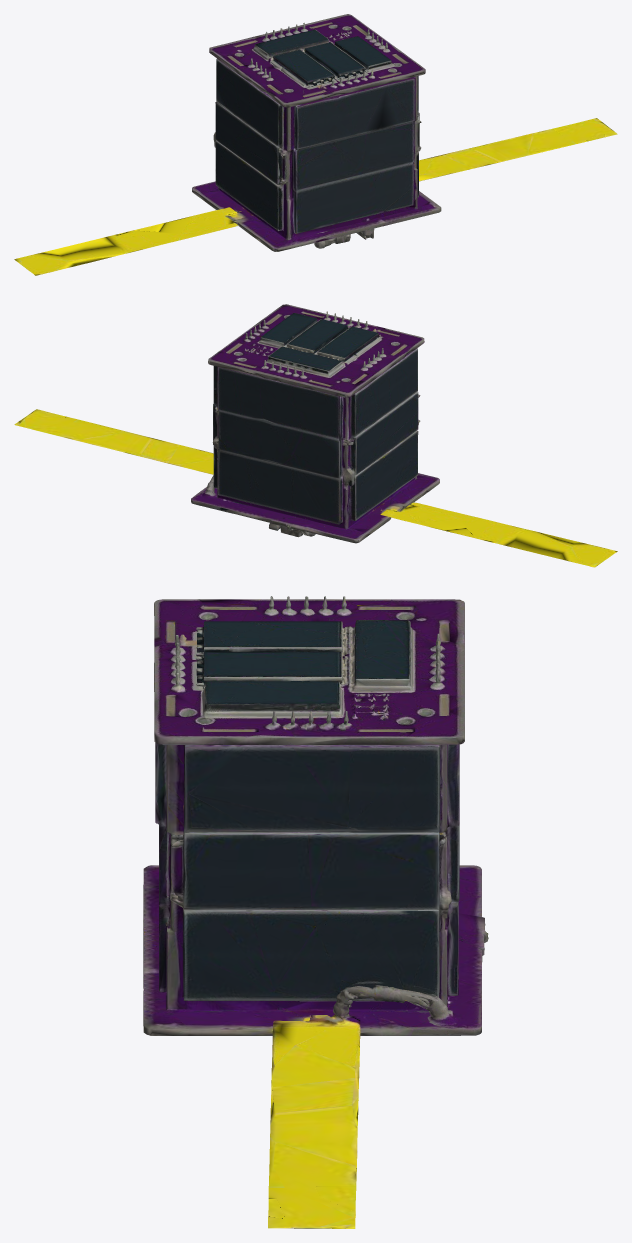
File: solar-cube.glb
3 views of the same model, one above another, from view 1: azimuth 30°, elevation 25°; view 2: azimuth 150°, elevation 25°; view 3: azimuth 270°, elevation 25° (orthographic). The views are drawn at different scales.
Parts seen in each view (by area): view 1: Meshy_AI_Solar_Cube_Circuit_20261021_texture; view 2: Meshy_AI_Solar_Cube_Circuit_20261021_texture; view 3: Meshy_AI_Solar_Cube_Circuit_20261021_texture.
Part boxes in pixels (x1,y1,x2,y2): Meshy_AI_Solar_Cube_Circuit_20261021_texture: [14, 14, 617, 275]; Meshy_AI_Solar_Cube_Circuit_20261021_texture: [14, 304, 617, 567]; Meshy_AI_Solar_Cube_Circuit_20261021_texture: [143, 596, 488, 1228].
Size of the model in its own units: 1.9 by 0.5289 by 0.4871.
1 material, 1 textured.
